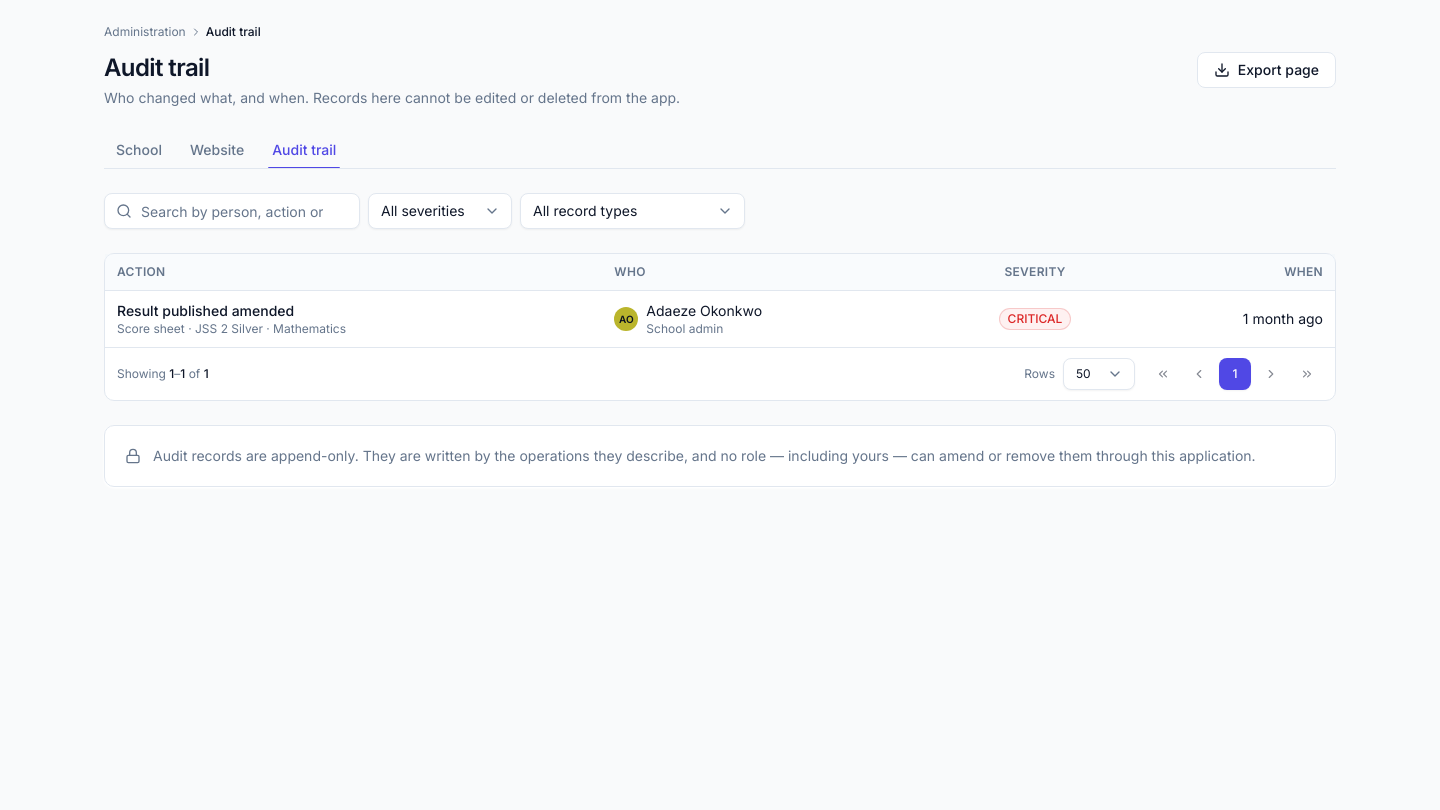
Test: AuditPage › shows what changed as old and new values, not as JSON
The image size is (1440, 810).
Click the text "Result published amended".
click(206, 310)  # box [117,302,294,319]
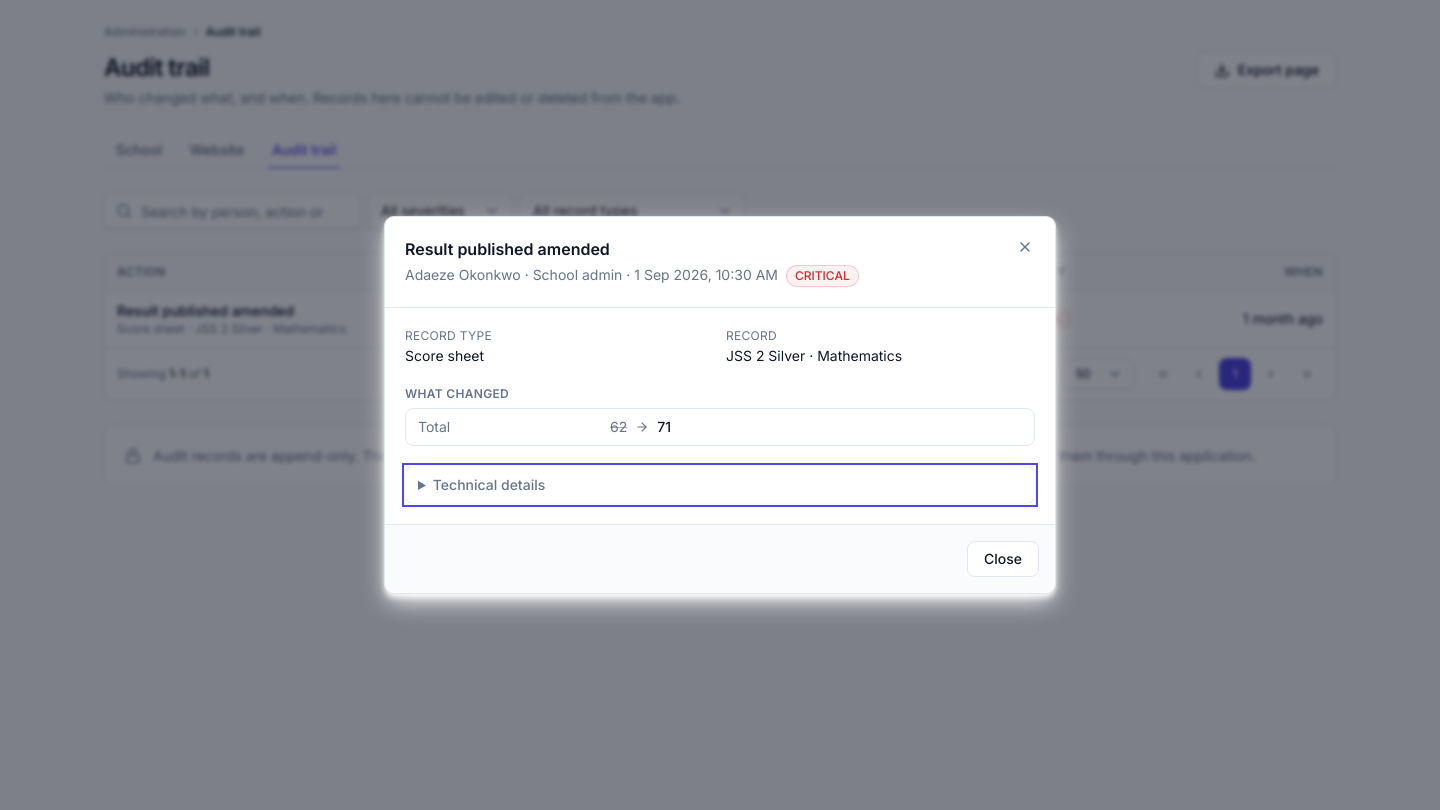
Expected: the text "Total" is shown, [418,418,450,435]
Expected: the text "62" is shown, [610,417,627,437]
Expected: the text "71" is shown, [657,417,671,437]
